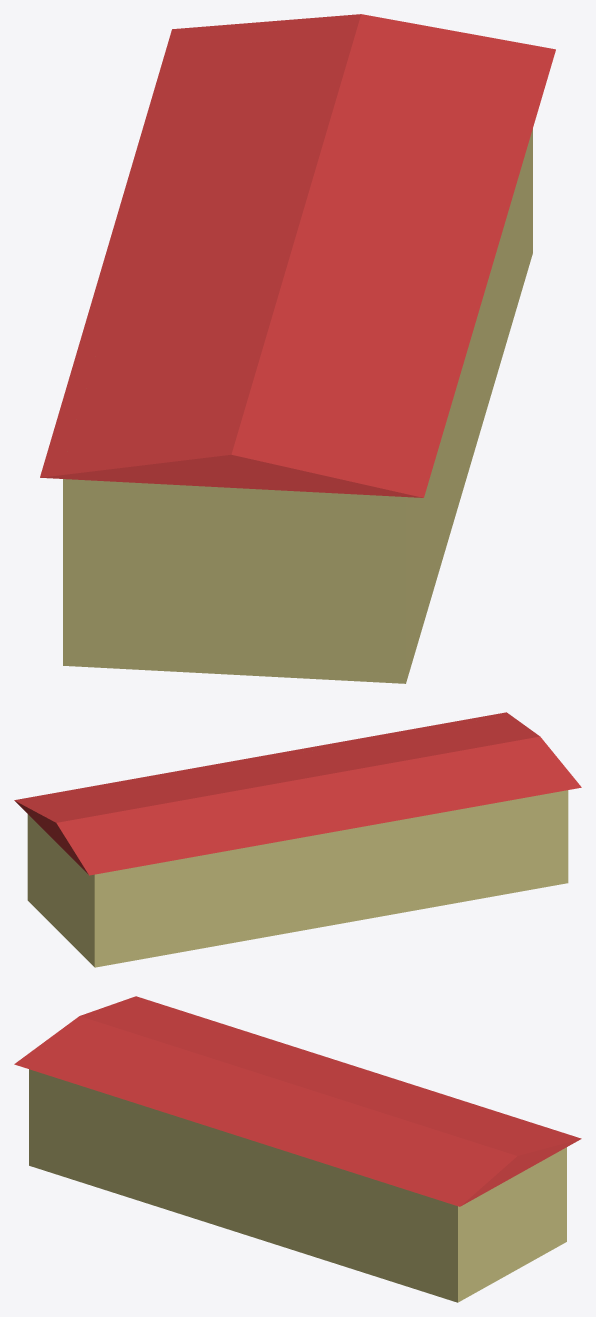
The picture shows the model from 3 angles, top to bottom: view 1: azimuth 30°, elevation 25°; view 2: azimuth 150°, elevation 25°; view 3: azimuth 270°, elevation 25°; orthographic projection. The views are drawn at different scales.
Bounding box in the file's own units: 34.61 × 39.43 × 9.
